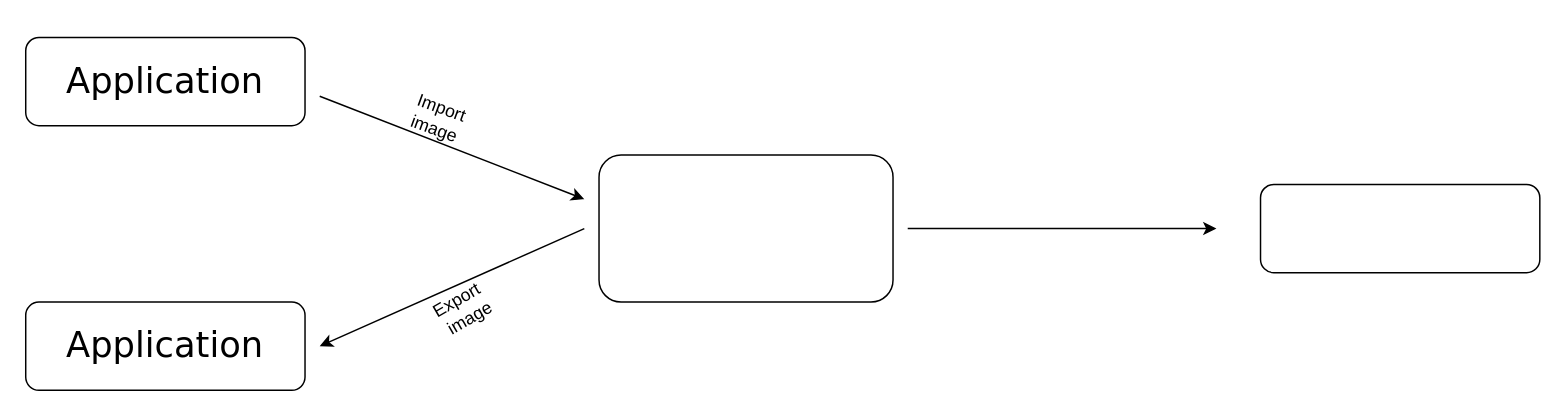
Image size: 1566x416. Some labels were removed from this diagram. The shapes that lost their labels are listed below. From the top down, each one's box as (x1, y1, x2, y2) in pixels, then its label:
(598, 154, 893, 302): Thumbor
(1259, 183, 1540, 273): GCS
